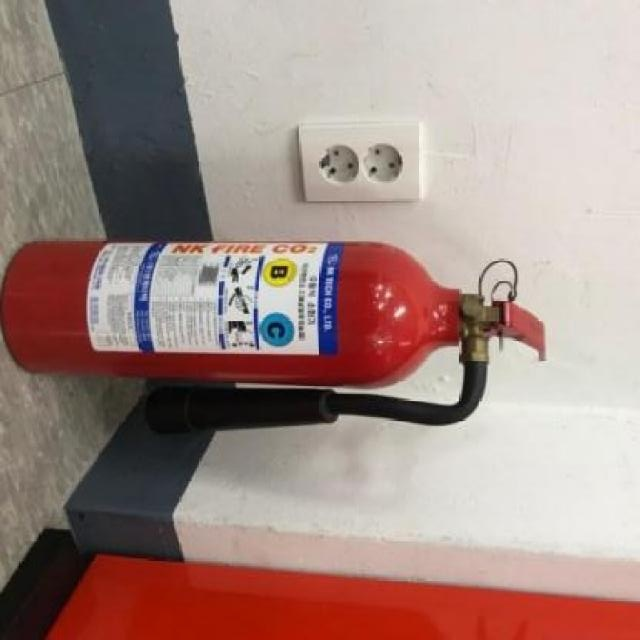fire extinguisher: (0, 239, 546, 432)
